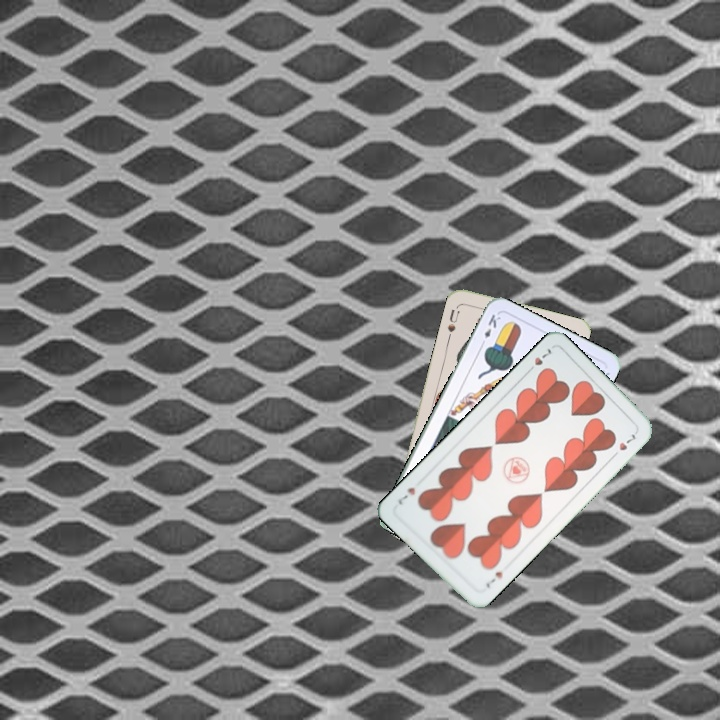EK: (476, 310, 503, 349)
H7: (523, 344, 554, 376), (481, 567, 505, 591)
SU: (443, 305, 462, 335)
